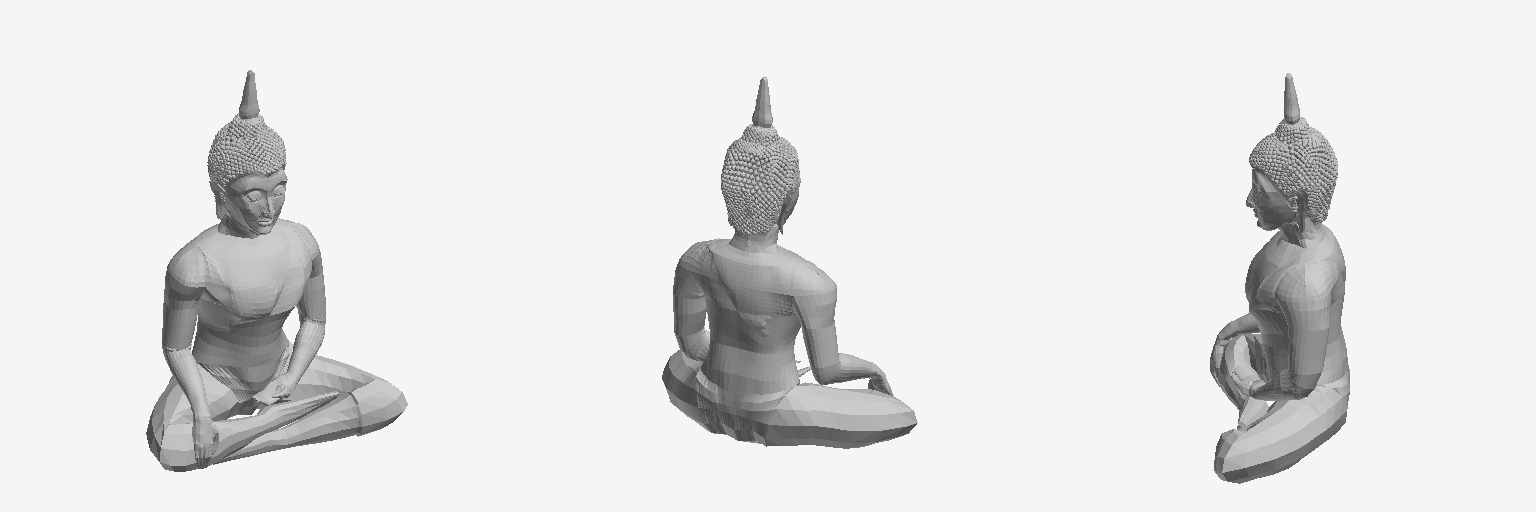
The model's file is indian.obj.
The picture shows the model from 3 angles: view 1: azimuth 30°, elevation 25°; view 2: azimuth 150°, elevation 25°; view 3: azimuth 270°, elevation 25°; orthographic projection.
Bounding box in the file's own units: 56.47 × 80 × 27.87.